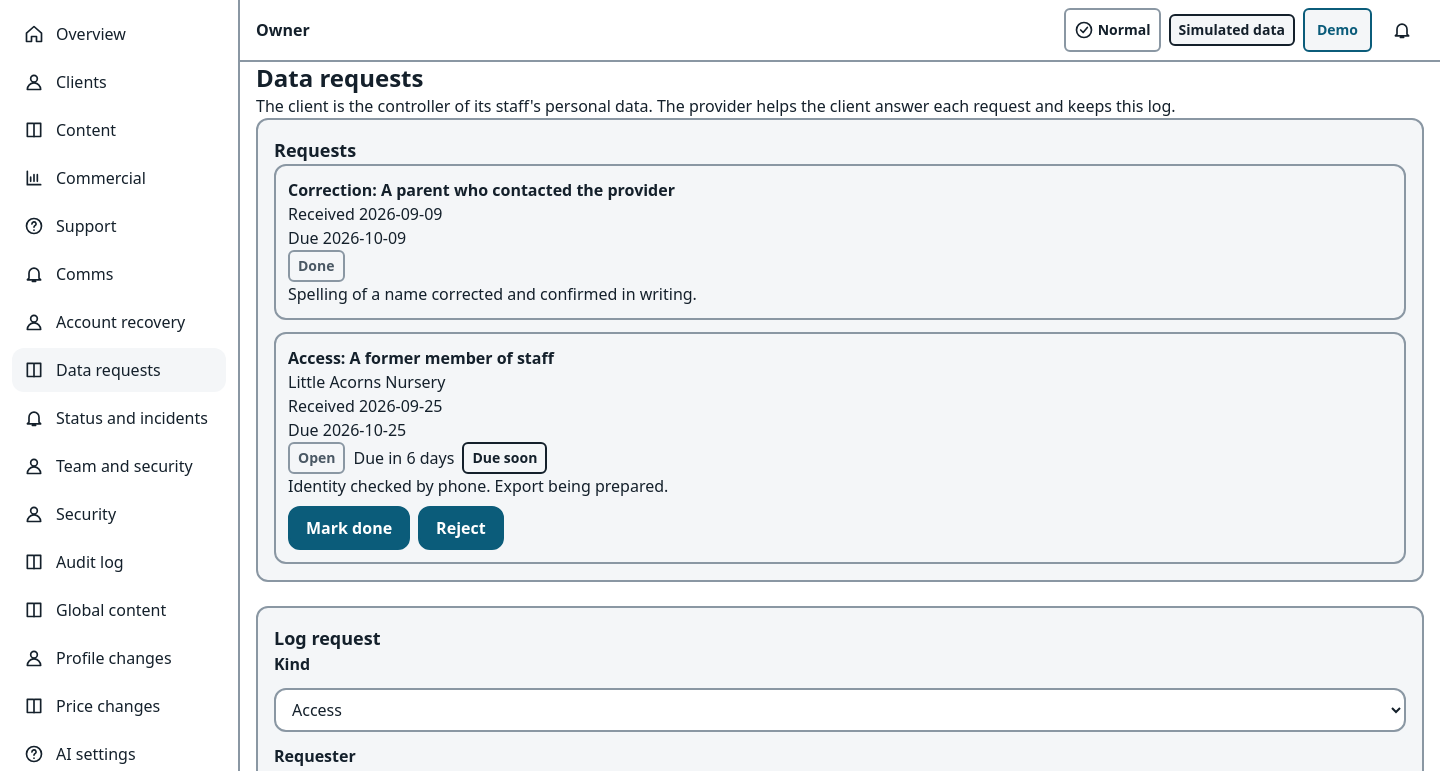
P16 Data requests › requires a reason to reject, then shows Rejected and the reason
Expected: the heading "Data requests" is shown, [256,62,423,94]
Click the button "Reject" at coordinates (461, 528), box [418,506,504,550]
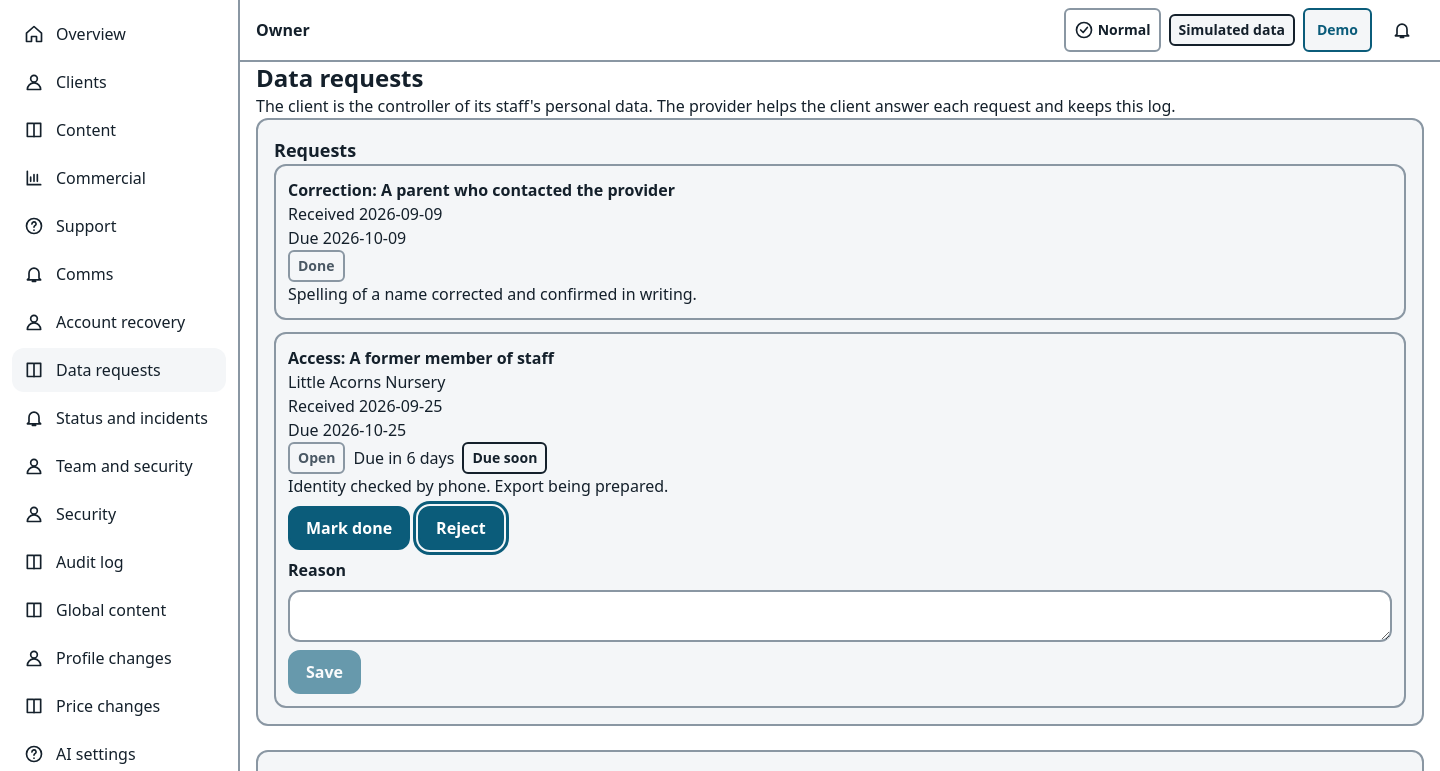
Now the button "Save" is disabled, box [288,650,361,694]
Type "Could not verify identity" into the text box labelled "Reason" at coordinates (840, 616), box [288,590,1392,642]
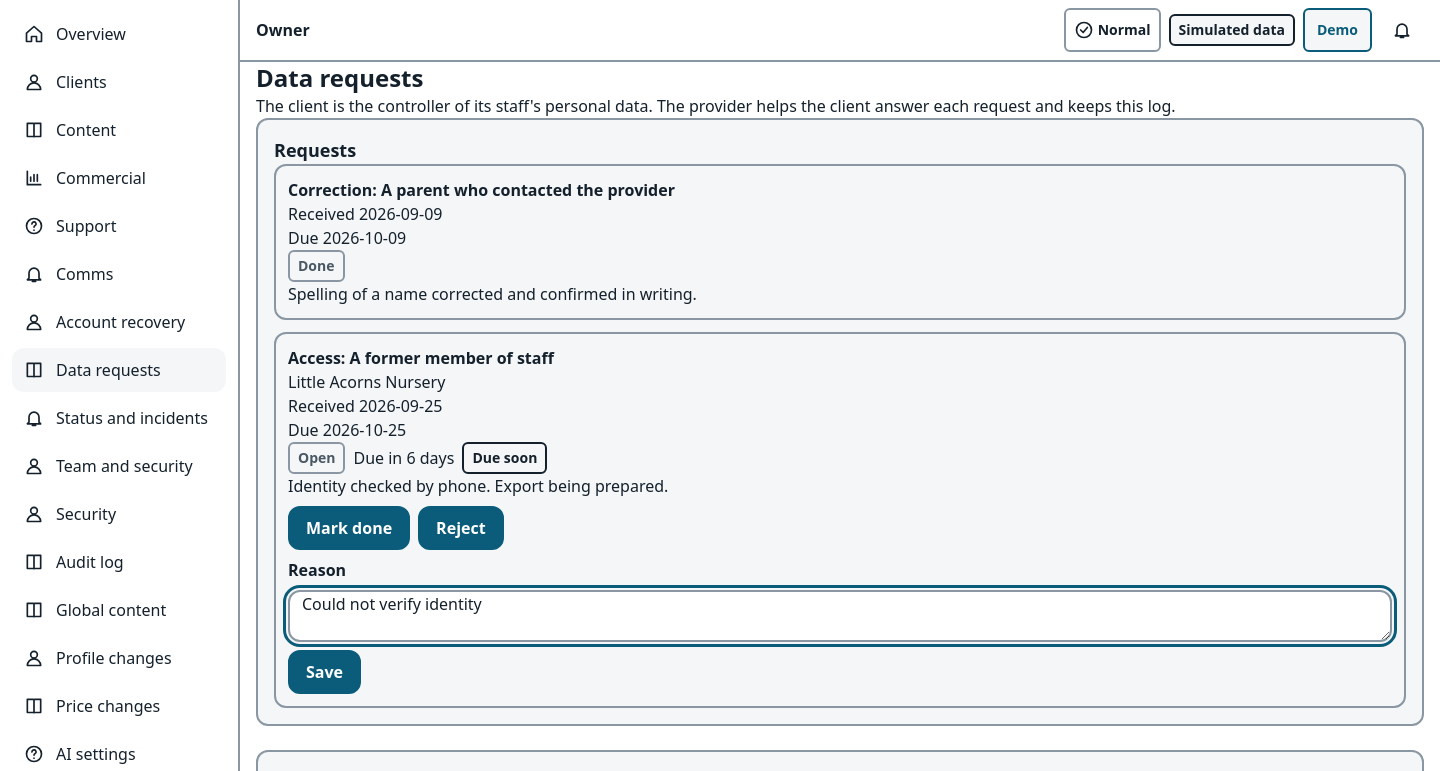
Now the button "Save" is enabled
Click the button "Save" at coordinates (324, 672), box [288,650,361,694]
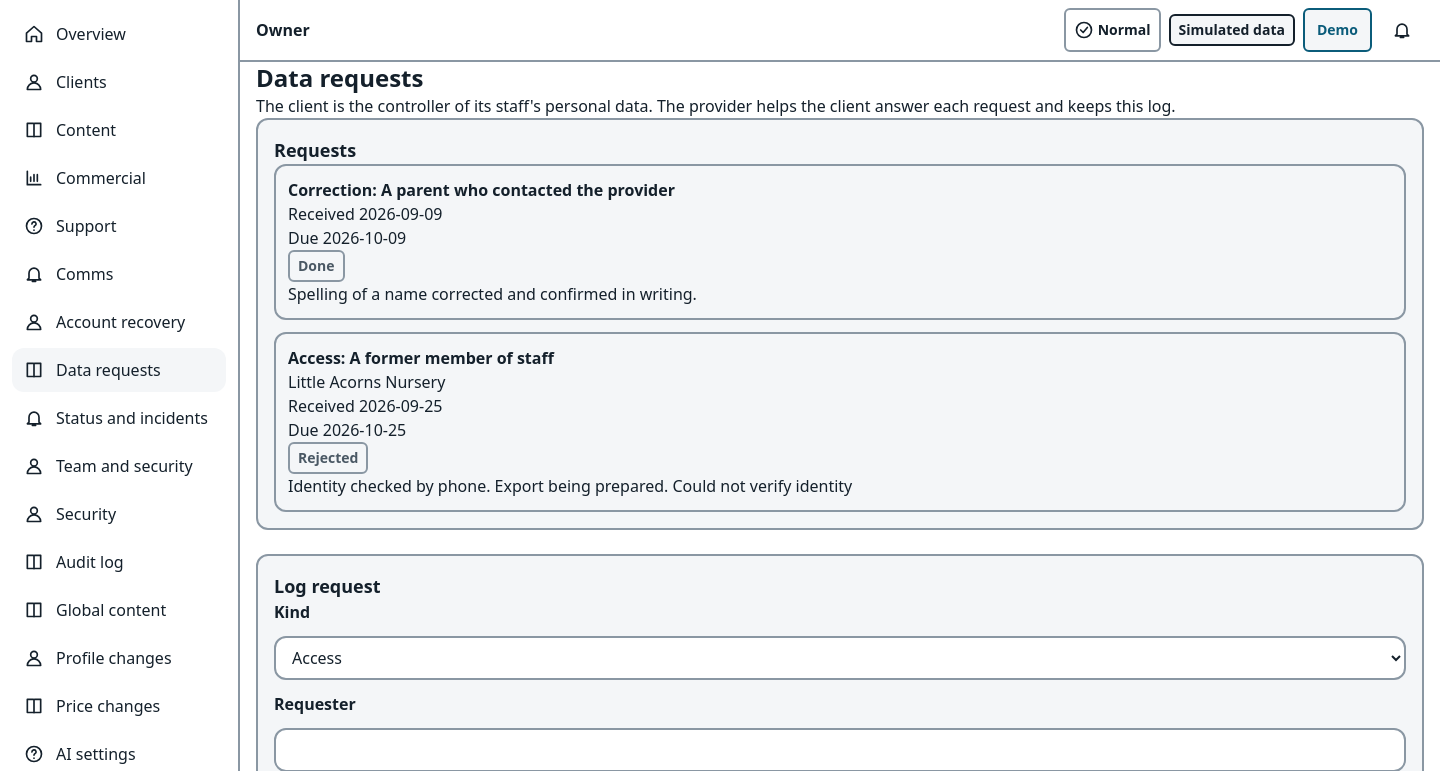
Now the list item with test id "dr-row" shows "Rejected", box [298,448,358,467]
Now the list item with test id "dr-row" shows "Could not verify identity", box [288,475,852,497]
